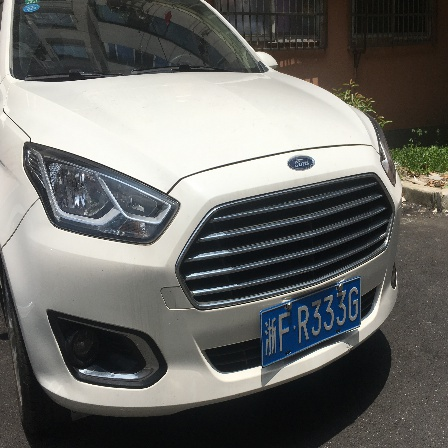plate: (257, 280, 361, 360)
